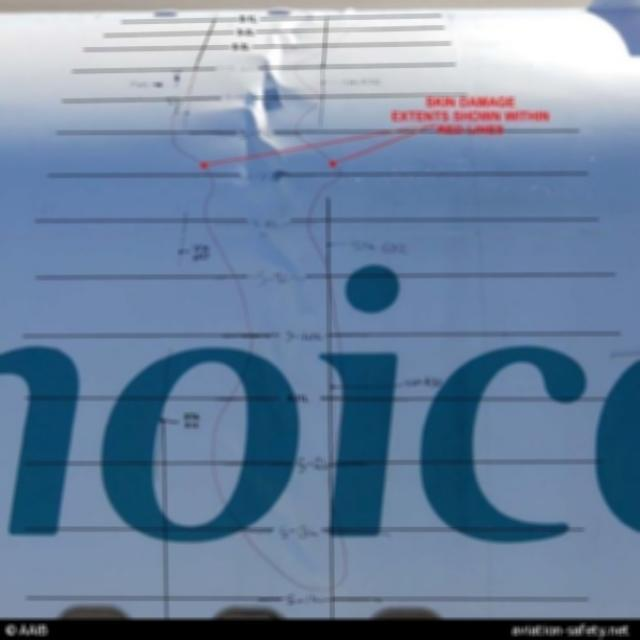dent: (195, 102, 286, 176), (244, 226, 316, 316), (261, 512, 321, 578), (244, 55, 302, 115), (260, 15, 319, 70)
